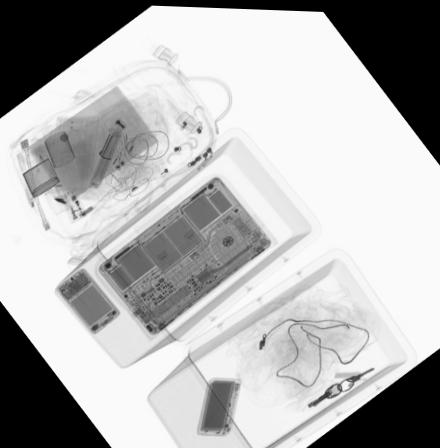Lighter: (58, 190, 81, 221)
